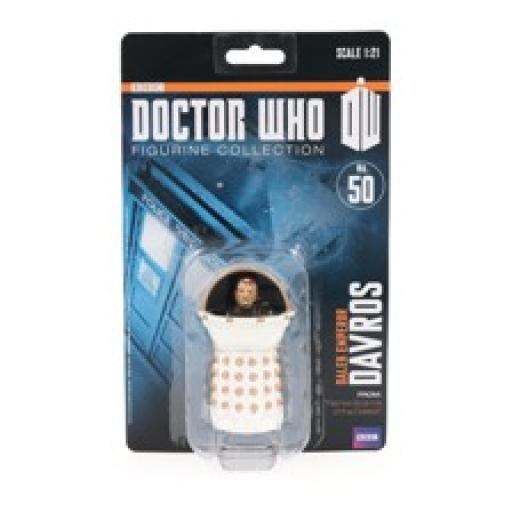dalek: (204, 316, 290, 443)
